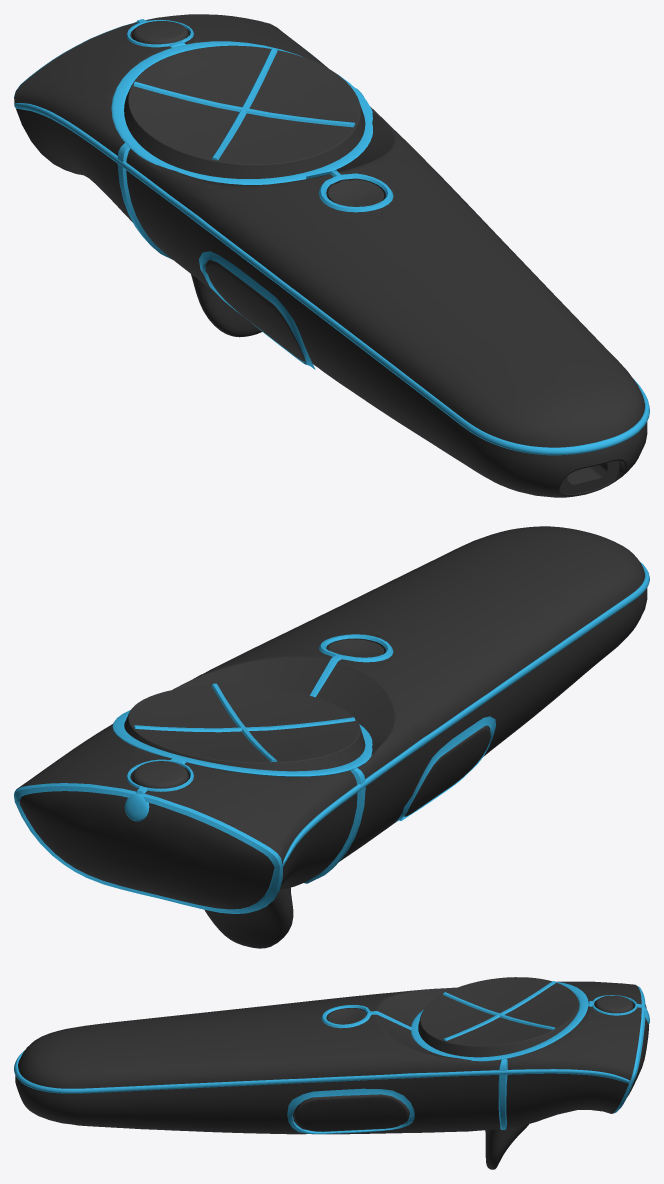
The model's file is vive_tron.fbx.
The picture shows the model from 3 angles, top to bottom: view 1: azimuth 30°, elevation 25°; view 2: azimuth 150°, elevation 25°; view 3: azimuth 270°, elevation 25°; orthographic projection. The views are drawn at different scales.
Visible parts, largest first — view 1: body, touchpad, body_decal, touchpad_decal, gip_button_left, touchpad_cross_decal, trigger_button, left_grip_button_decal, bottom_button, touchpad_to_menu_decal, fron_button, body_to_trigger_decal_thick; view 2: body, touchpad, front_ring_decal, body_decal, trigger_button, gip_button_left, touchpad_decal, touchpad_cross_decal, fron_button, touchpad_to_menu_decal, left_grip_button_decal, bottom_button (+2 smaller); view 3: body, touchpad, grip_button_right, body_decal, touchpad_decal, left_grip_button_decal, trigger_button, touchpad_cross_decal, touchpad_to_menu_decal, fron_button, front_ring_decal, bottom_button (+1 smaller).
Part boxes in pixels (bbox=[...]): body: bbox=[14, 14, 647, 497]; touchpad: bbox=[124, 45, 365, 178]; body_decal: bbox=[14, 49, 649, 455]; touchpad_decal: bbox=[111, 41, 372, 184]; gip_button_left: bbox=[207, 260, 305, 361]; touchpad_cross_decal: bbox=[133, 48, 355, 160]; trigger_button: bbox=[191, 274, 261, 337]; left_grip_button_decal: bbox=[199, 251, 315, 369]; bottom_button: bbox=[327, 179, 384, 206]; touchpad_to_menu_decal: bbox=[306, 170, 393, 212]; fron_button: bbox=[132, 21, 188, 44]; body_to_trigger_decal_thick: bbox=[117, 164, 172, 259]; body: bbox=[17, 526, 647, 909]; touchpad: bbox=[124, 685, 365, 771]; front_ring_decal: bbox=[14, 783, 283, 913]; body_decal: bbox=[283, 562, 649, 865]; trigger_button: bbox=[204, 887, 293, 948]; gip_button_left: bbox=[404, 725, 490, 816]; touchpad_decal: bbox=[112, 710, 372, 776]; touchpad_cross_decal: bbox=[133, 683, 355, 761]; fron_button: bbox=[132, 761, 188, 788]; touchpad_to_menu_decal: bbox=[310, 634, 393, 697]; left_grip_button_decal: bbox=[394, 716, 495, 823]; bottom_button: bbox=[327, 639, 384, 657]; body: bbox=[15, 981, 648, 1134]; touchpad: bbox=[418, 977, 579, 1057]; grip_button_right: bbox=[294, 1094, 409, 1131]; body_decal: bbox=[14, 1050, 630, 1093]; touchpad_decal: bbox=[411, 981, 588, 1061]; left_grip_button_decal: bbox=[287, 1088, 414, 1134]; trigger_button: bbox=[485, 1124, 528, 1169]; touchpad_cross_decal: bbox=[443, 981, 555, 1040]; touchpad_to_menu_decal: bbox=[321, 1005, 412, 1029]; fron_button: bbox=[594, 995, 633, 1013]; front_ring_decal: bbox=[613, 986, 645, 1113]; bottom_button: bbox=[327, 1008, 366, 1024].
Size of the model in its own units: 5.45 by 4.65 by 16.31.
